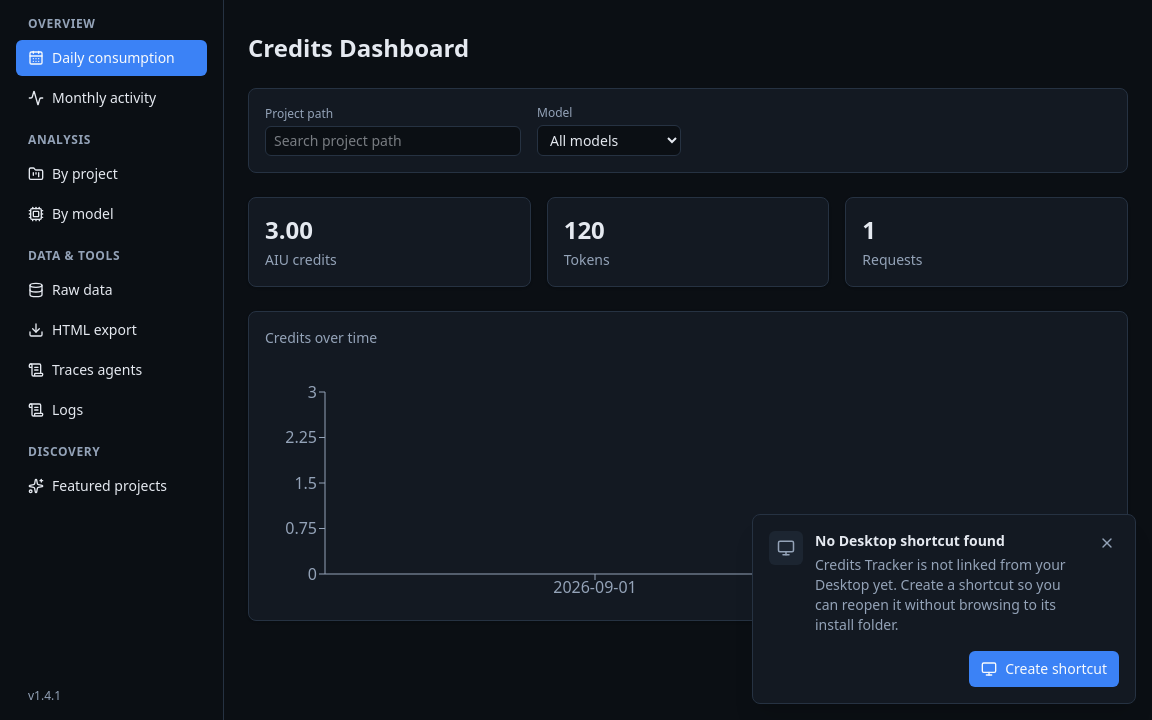
it: App › keeps the desktop shortcut toast open and shows an error when creation fails
This screenshot has width=1152, height=720.
Expected: the text "3.00" is shown, [265,214,313,246]
Expected: the heading "No Desktop shortcut found" is shown, [815,531,1005,550]
Click the button "Create shortcut" at [1044, 669], box [969,651,1119,687]
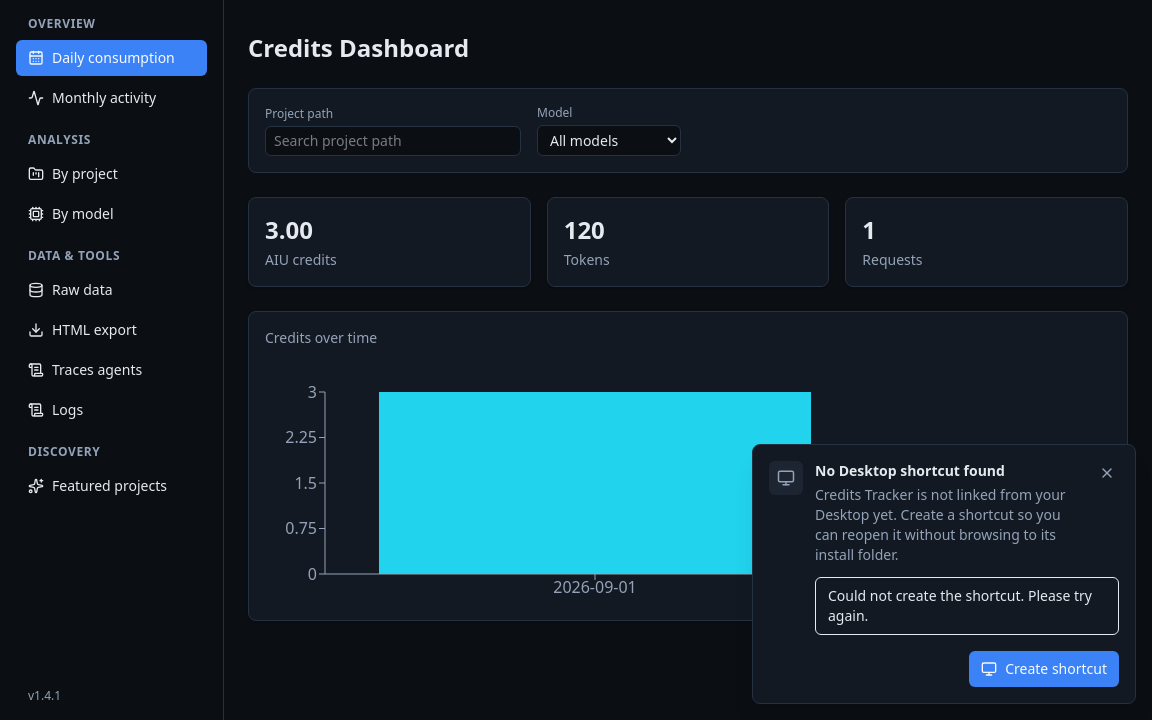
Expected: the heading "No Desktop shortcut found" is shown, [815,461,1005,480]
Now the message reads "Could not create the shortcut. Please try again.", box [828,586,1092,625]
